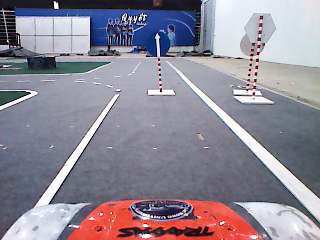straight: (146, 31, 170, 57)
